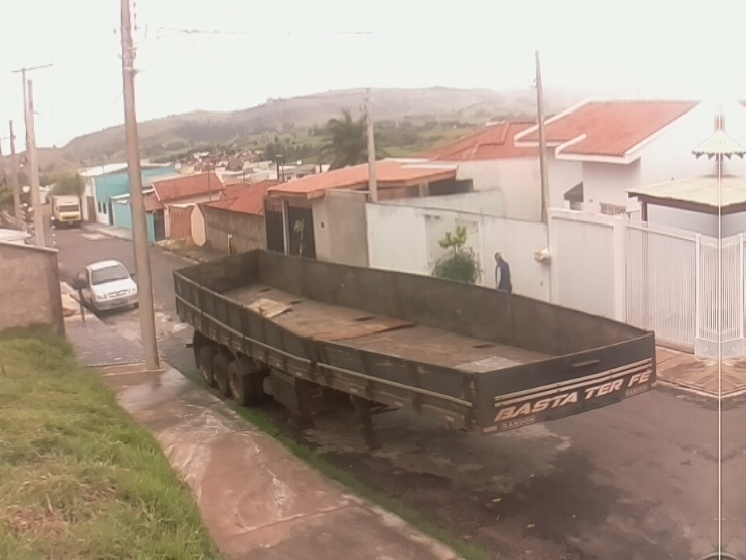person: (491, 249, 514, 296)
